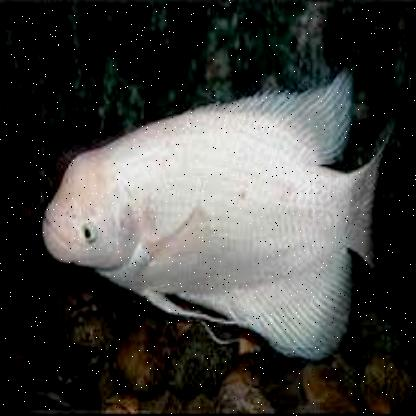gurame: (40, 75, 386, 350)
